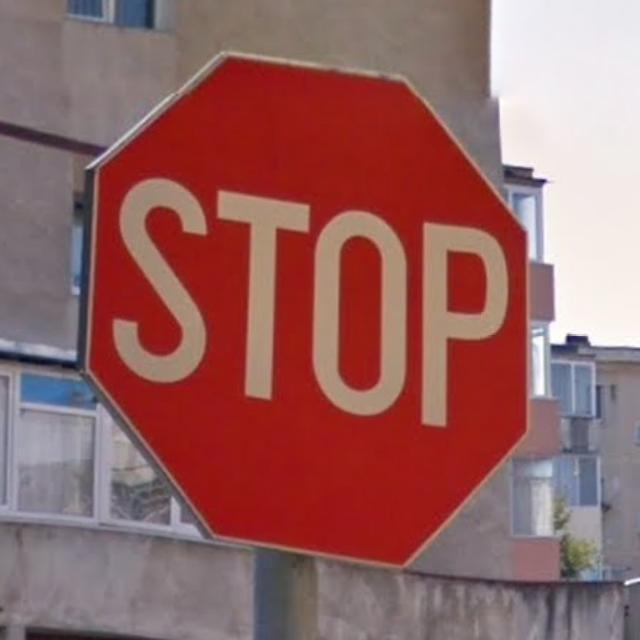prio_stop: (77, 50, 530, 568)
